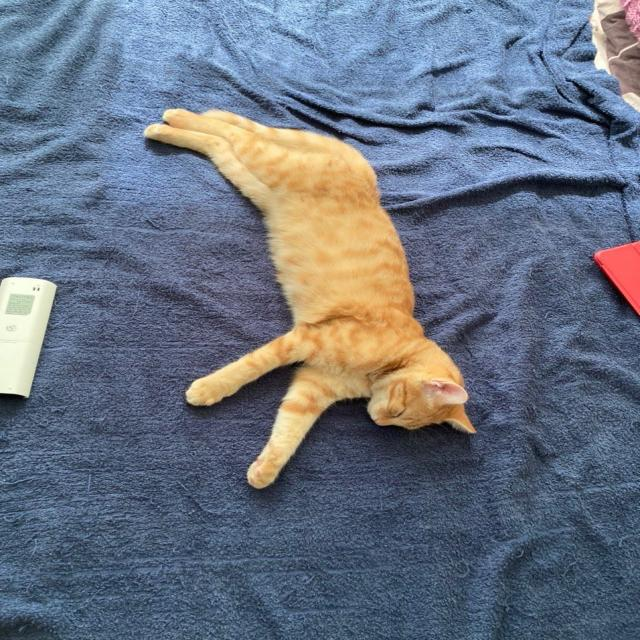red_cat: (145, 109, 474, 488)
